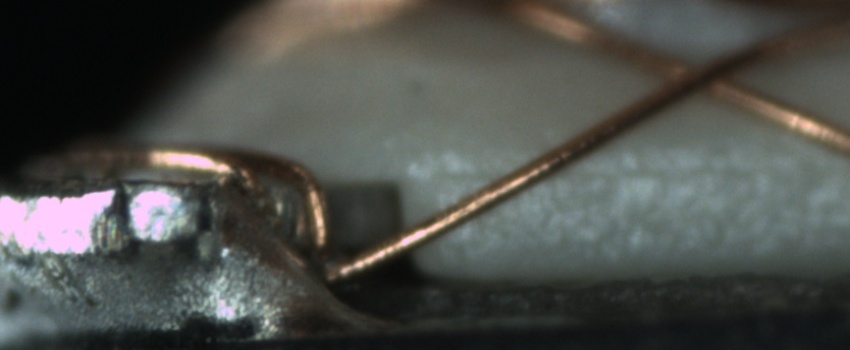CL: (657, 42, 754, 105)
DL: (404, 140, 810, 204)
TE: (67, 141, 332, 272)
